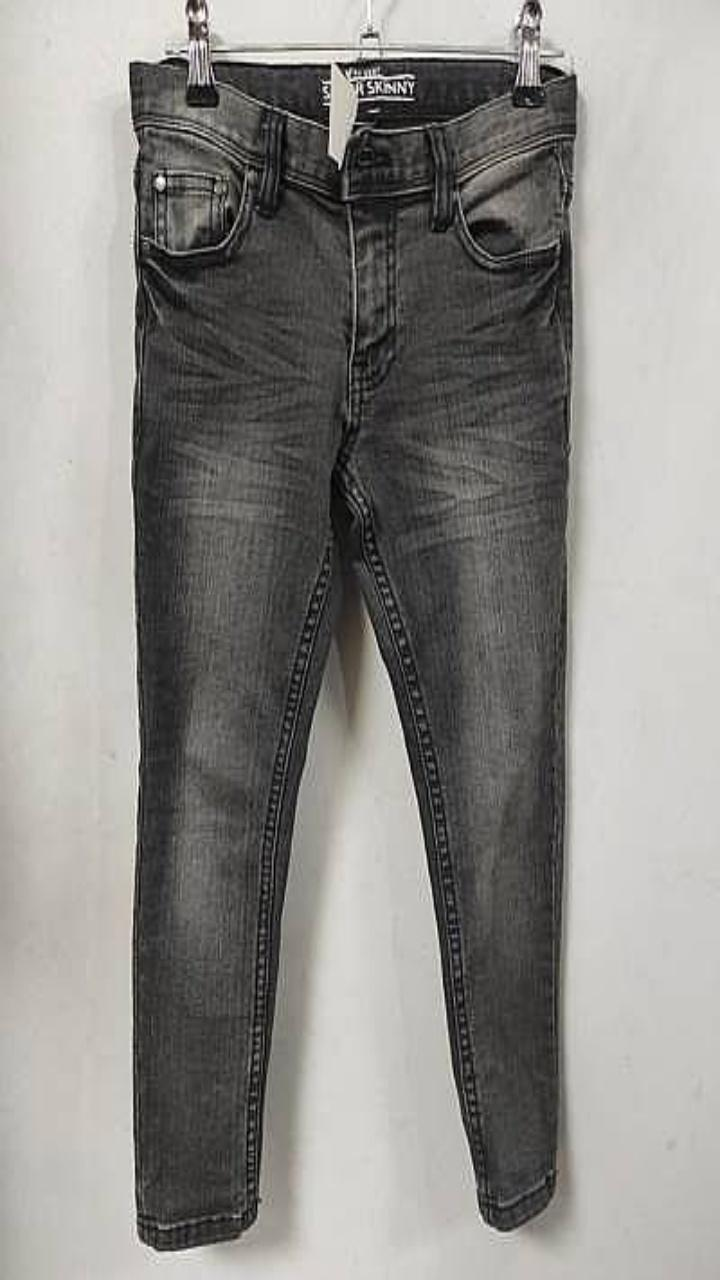Jeans: (130, 57, 575, 1249)
